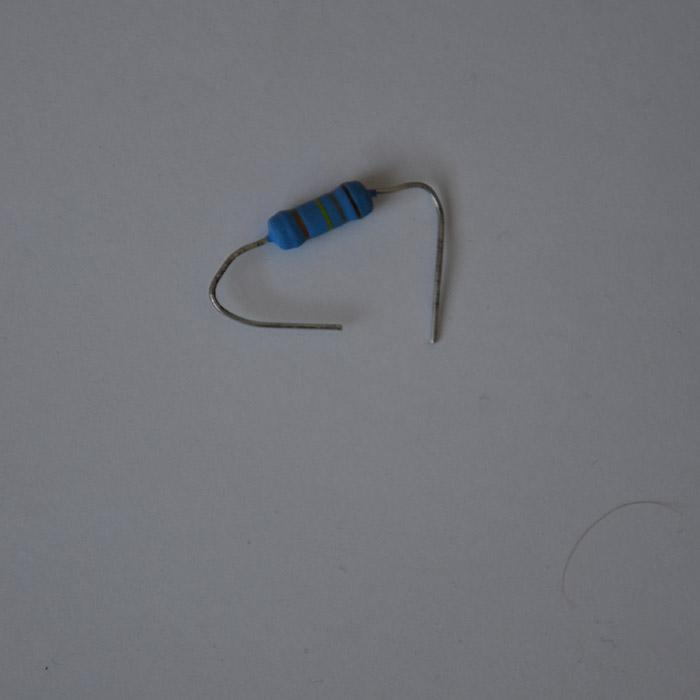resistor: (266, 179, 377, 250)
